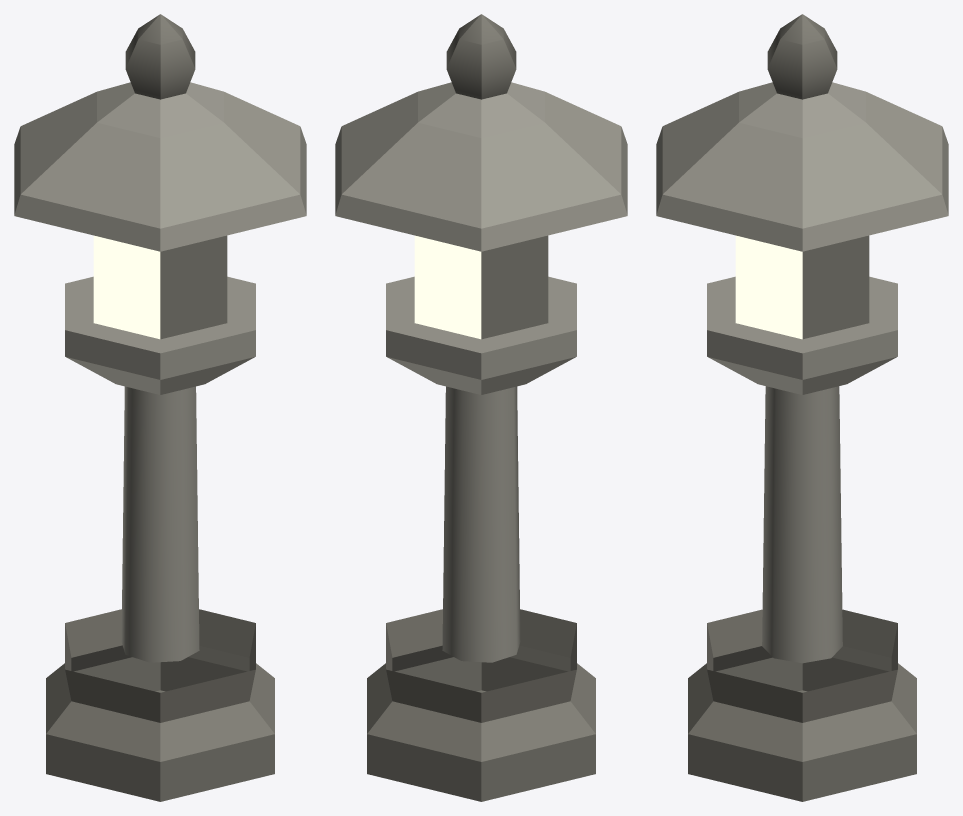
File: tokyo_stone_lantern.glb
3 views of the same model, side by side, from view 1: azimuth 30°, elevation 25°; view 2: azimuth 150°, elevation 25°; view 3: azimuth 270°, elevation 25° (orthographic).
Visible parts, largest first — view 1: tokyo_stone_lantern; view 2: tokyo_stone_lantern; view 3: tokyo_stone_lantern.
Part boxes in pixels (x1,y1,x2,y2): tokyo_stone_lantern: (14,14,306,801); tokyo_stone_lantern: (335,14,627,801); tokyo_stone_lantern: (656,14,948,801).
Bounding box in the file's own units: 0.92 × 2.2 × 0.7967.
1 material, 1 textured.
